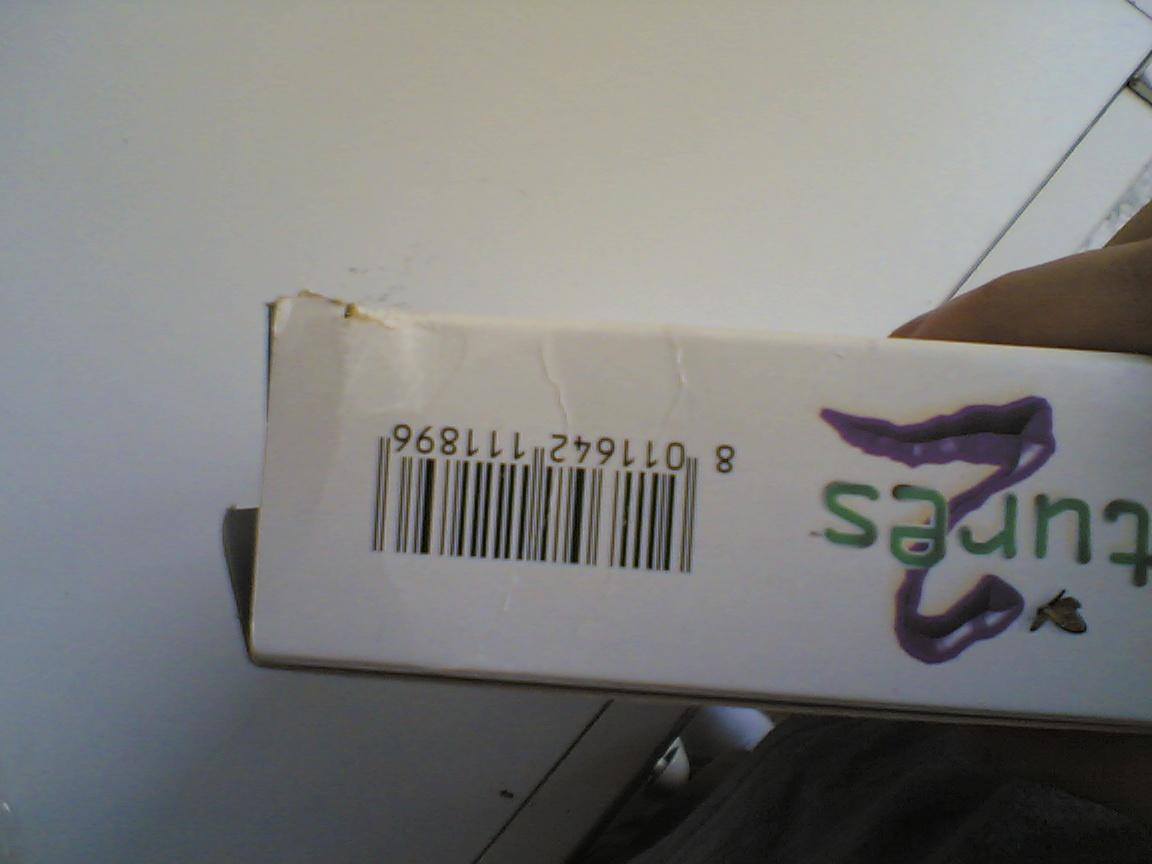Barcode: (334, 387, 775, 616)
